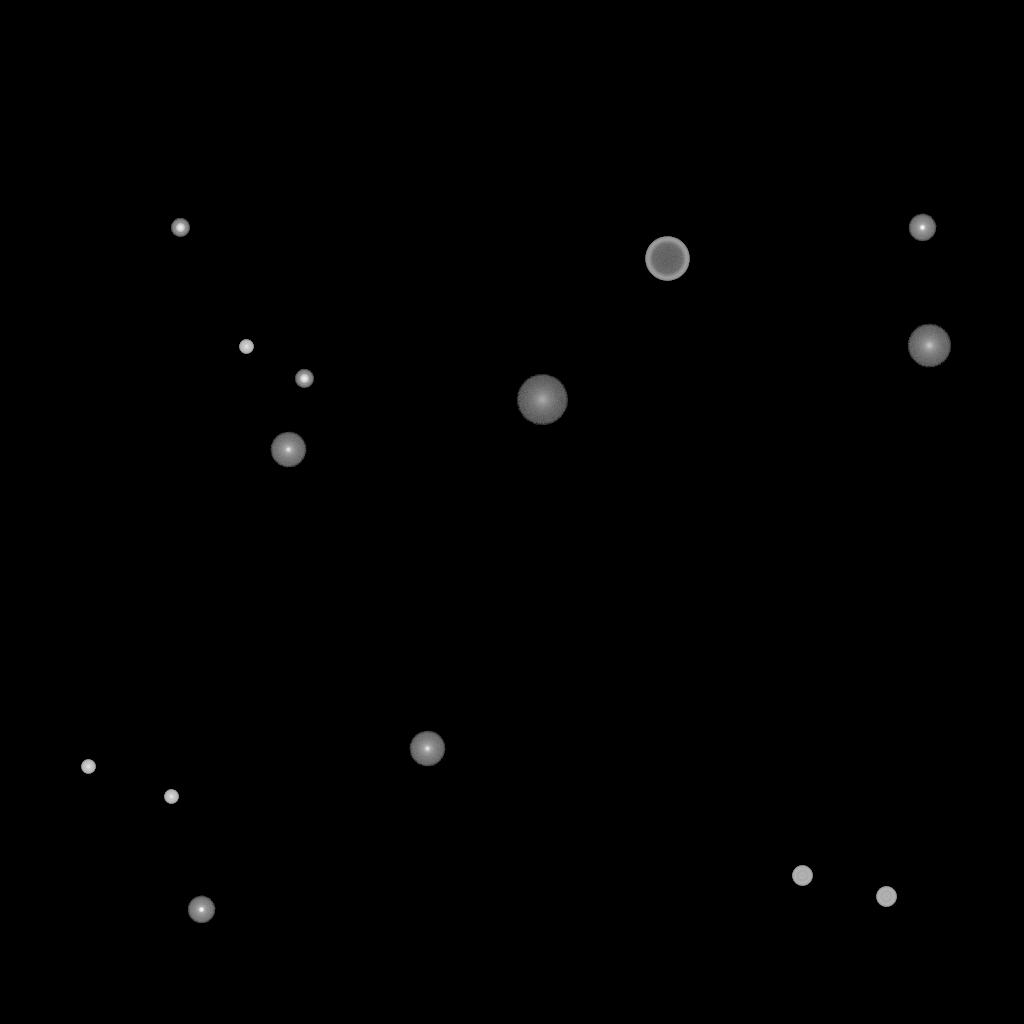depth:-10: (908, 214, 936, 242), (187, 896, 215, 924)
depth:-20: (295, 370, 313, 388), (171, 219, 189, 237)
depth:-30: (164, 790, 178, 804), (239, 340, 253, 354), (81, 760, 95, 774)
depth:-40: (876, 887, 896, 907), (792, 866, 812, 886)
depth:-70: (645, 237, 689, 281)
depth:0: (270, 432, 306, 468), (409, 731, 445, 767)
depth:10: (907, 324, 951, 368)
depth:20: (516, 375, 568, 425)
